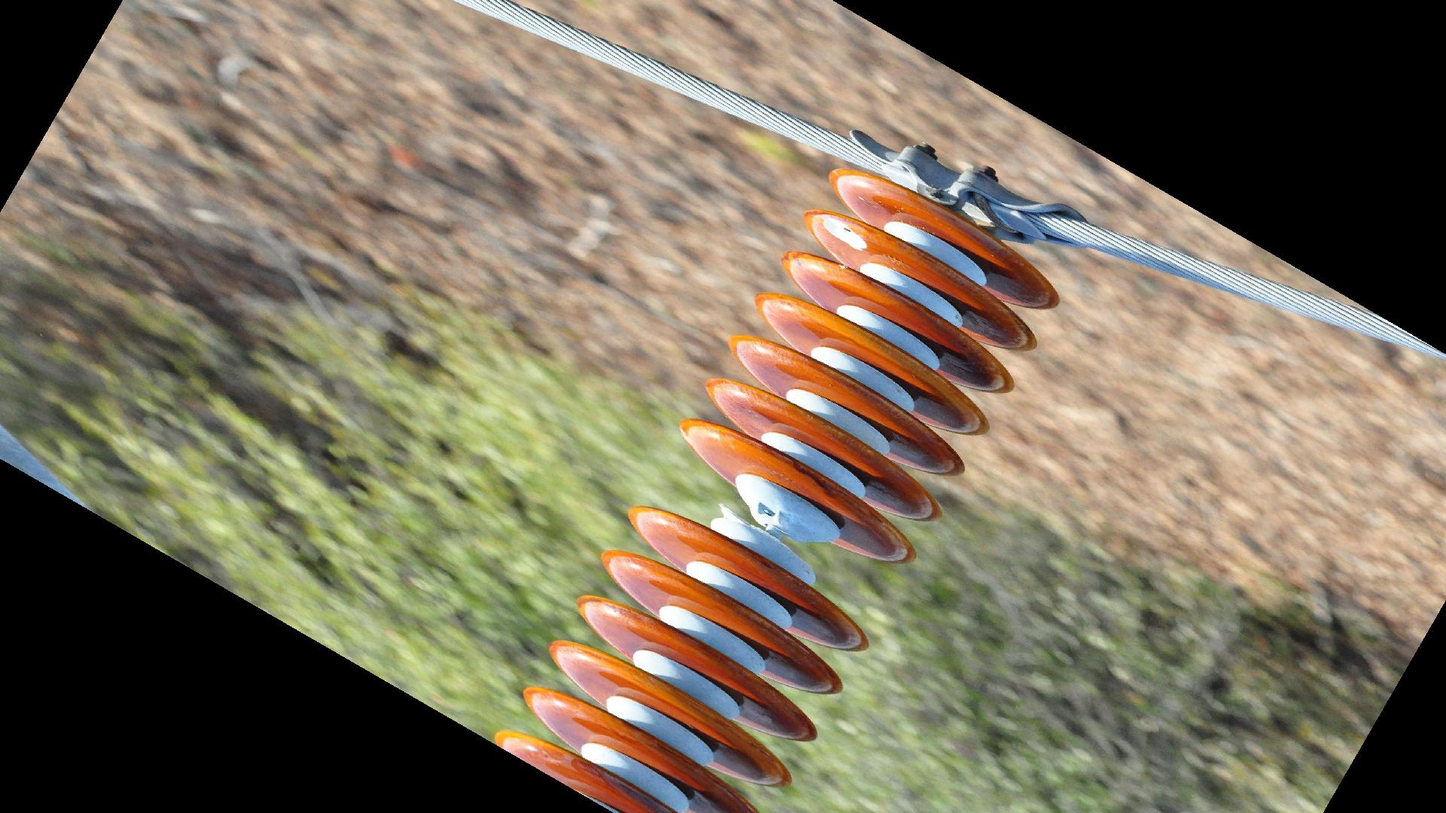insulator: (672, 163, 1067, 574), (484, 499, 874, 813)
insulator_breakage: (815, 212, 871, 256)
